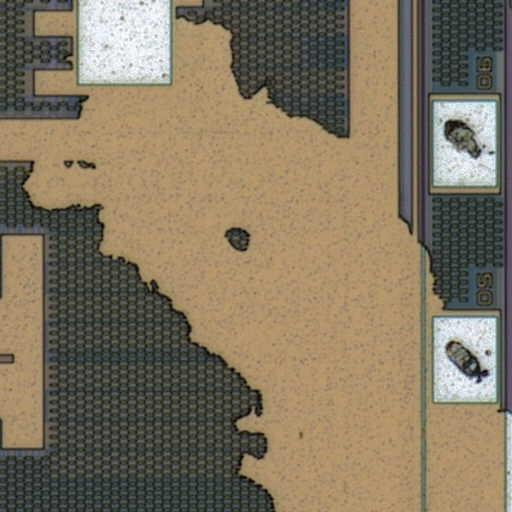BLOCK ETCH: (19, 9, 512, 512)
